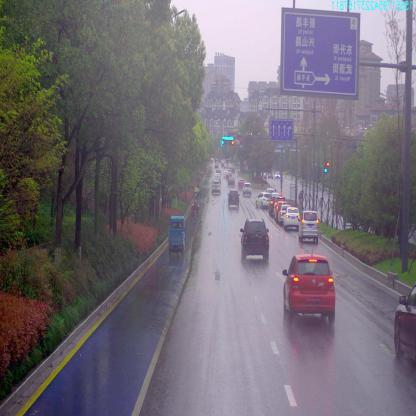traffic-light: (223, 135, 234, 140), (229, 140, 234, 146), (222, 141, 228, 146)
